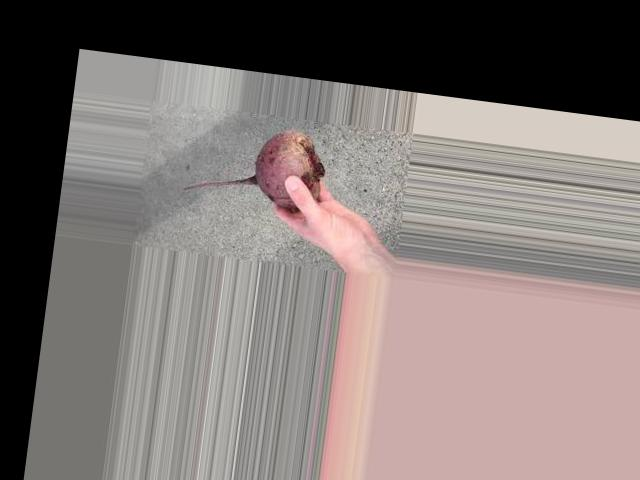beet: (184, 118, 329, 210)
